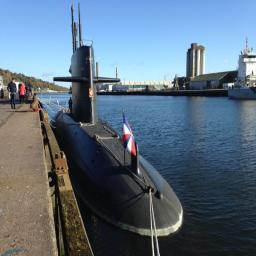submarine: (49, 2, 187, 236)
